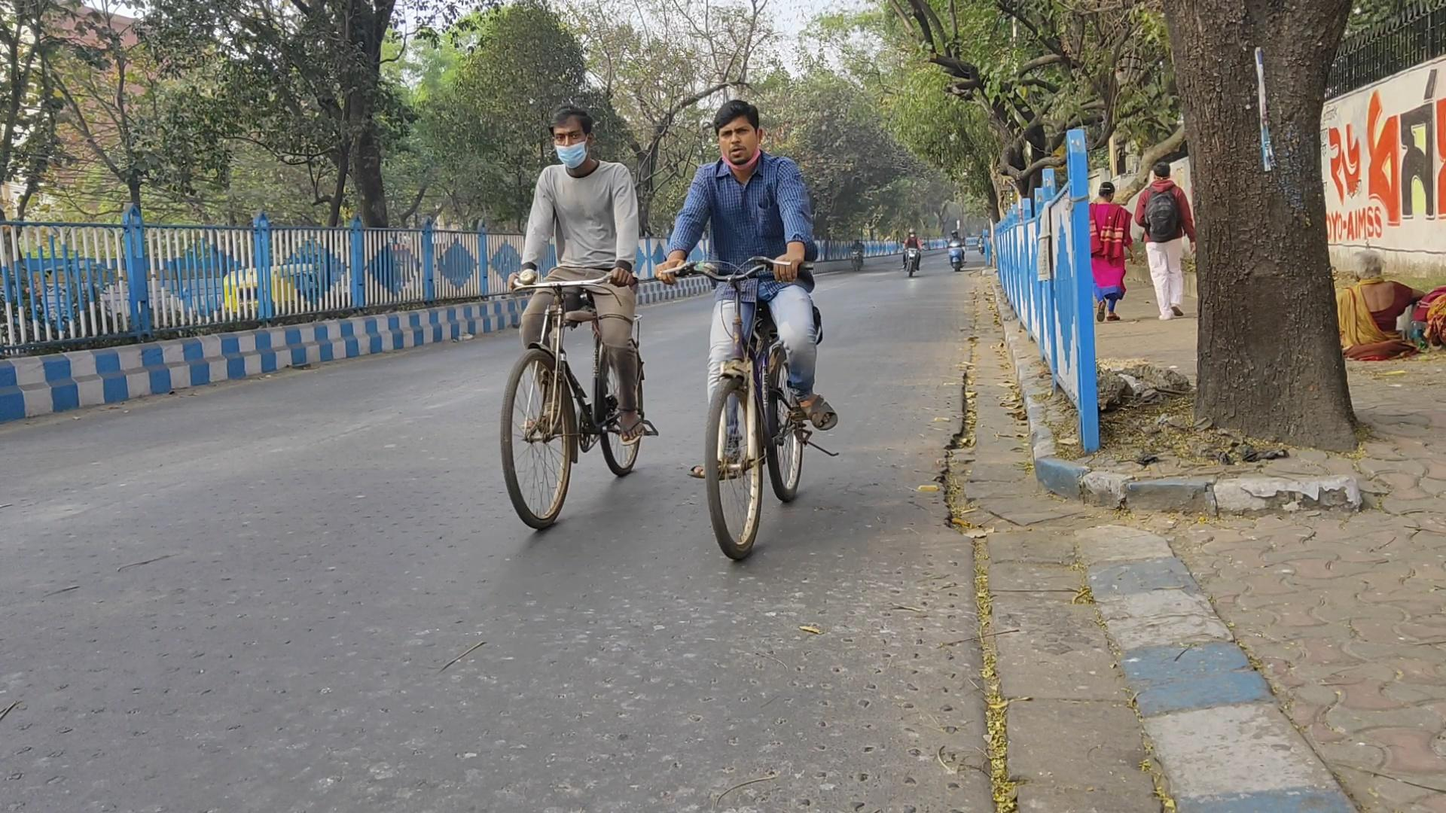bike: (656, 99, 840, 562), (499, 105, 657, 531), (900, 227, 926, 276), (945, 230, 967, 273), (849, 238, 866, 272)
